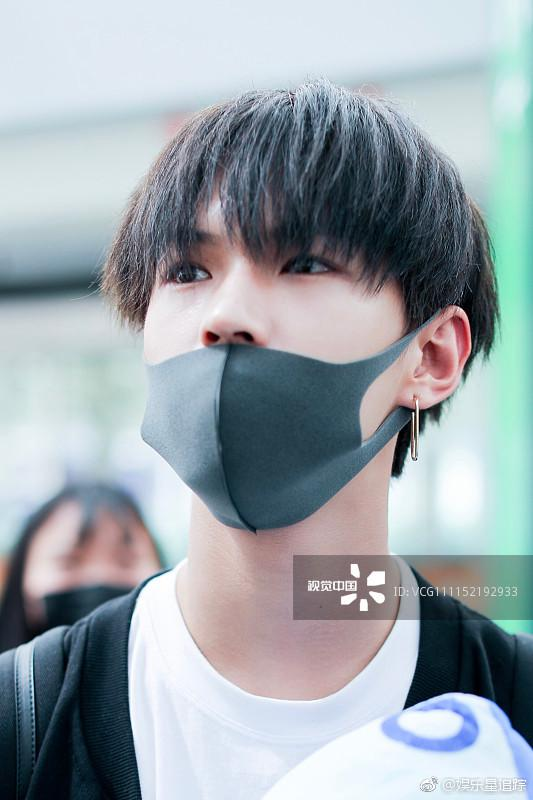WRONG: (140, 191, 397, 515)
